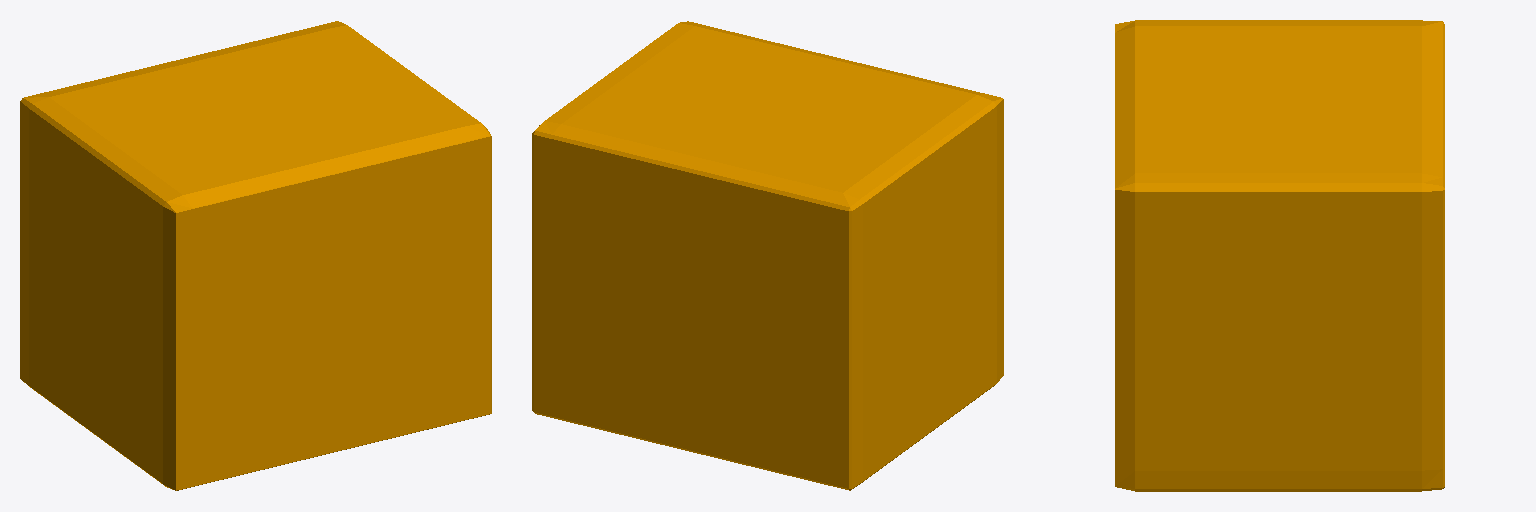
URDF robot description (cylinder_box_81):
<?xml version="1.0" encoding="utf-8"?>  <robot name="cylinder_box_81">   <link name="cylinder_box_81">     <visual>       <geometry>         <mesh filename="../meshes/box/box_81.stl" scale="1 1 1"/>       </geometry>     </visual>     <collision>       <geometry>         <mesh filename="../meshes/box/box_81.stl" scale="1 1 1"/>       </geometry>     </collision>     <inertial>        <origin         xyz="0 0 0"         rpy="0 0 0" />       <mass value="0.6532746968563689"/>       <origin rpy="0 0 0" xyz="0 0 0"/>       <inertia ixx="0.000728564763046755" ixy="3.216904721040868e-08" ixz="-1.3767069323692405e-07" iyy="0.0008911418745840416" iyz="6.3497138817243985e-09" izz="0.0008687998156556207"/>     </inertial>   </link>  </robot>

--- Render facts (derived) ---
The picture shows the robot from 3 angles, left to right: view 1: azimuth 30°, elevation 25°; view 2: azimuth 150°, elevation 25°; view 3: azimuth 270°, elevation 25°; orthographic projection.
Model cylinder_box_81 with 1 links and 0 joints (none), rooted at cylinder_box_81, posed every joint at zero.
Links seen in each view (by area): view 1: cylinder_box_81; view 2: cylinder_box_81; view 3: cylinder_box_81.
Boxes of the visible links, <box> form: cylinder_box_81: <box>20,21,491,490</box>; cylinder_box_81: <box>532,21,1003,490</box>; cylinder_box_81: <box>1115,20,1444,491</box>.
Bounding box of the posed robot: 0.0975 × 0.0808 × 0.0833 m (x, y, z).
1 mesh visuals loaded from 1 distinct referenced files (1 binary STL).